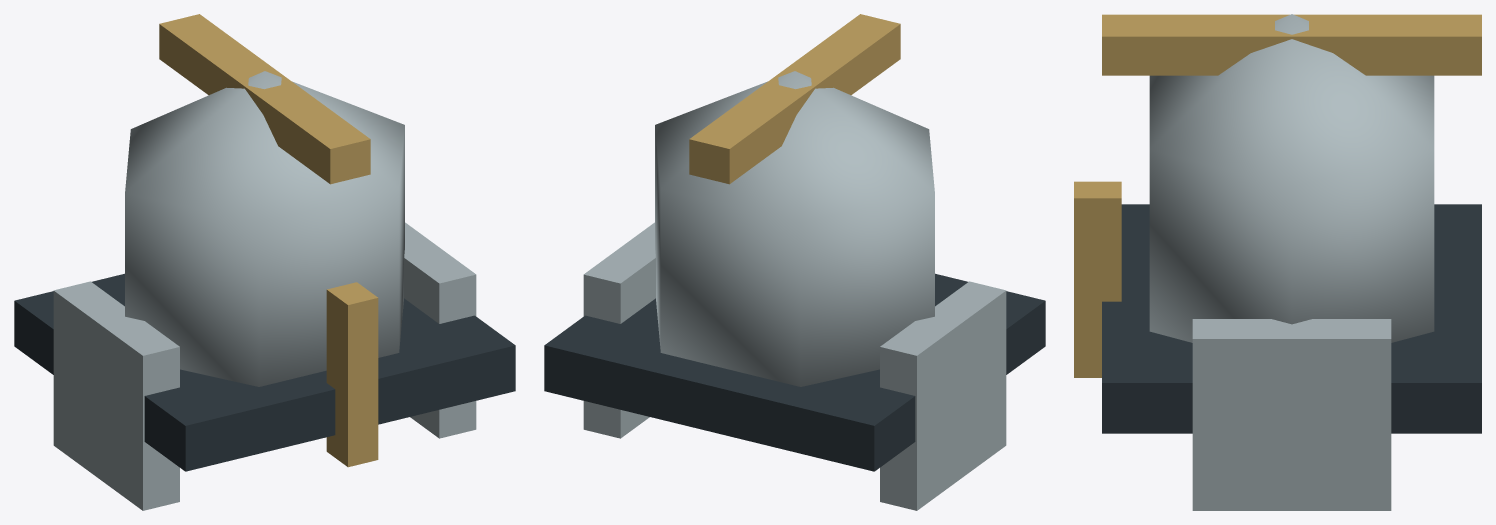
The model's file is fixed-helm-lod2.glb.
The picture shows the model from 3 angles, left to right: view 1: azimuth 30°, elevation 25°; view 2: azimuth 150°, elevation 25°; view 3: azimuth 270°, elevation 25°; orthographic projection. The views are drawn at different scales.
Visible parts, largest first — view 1: piece_whole; view 2: piece_whole; view 3: piece_whole.
Boxes of the visible parts, bbox=[...] form: piece_whole: bbox=[14, 14, 515, 510]; piece_whole: bbox=[544, 14, 1045, 510]; piece_whole: bbox=[1074, 14, 1481, 510].
Bounding box in the file's own units: 0.495 × 0.52 × 0.4725.
